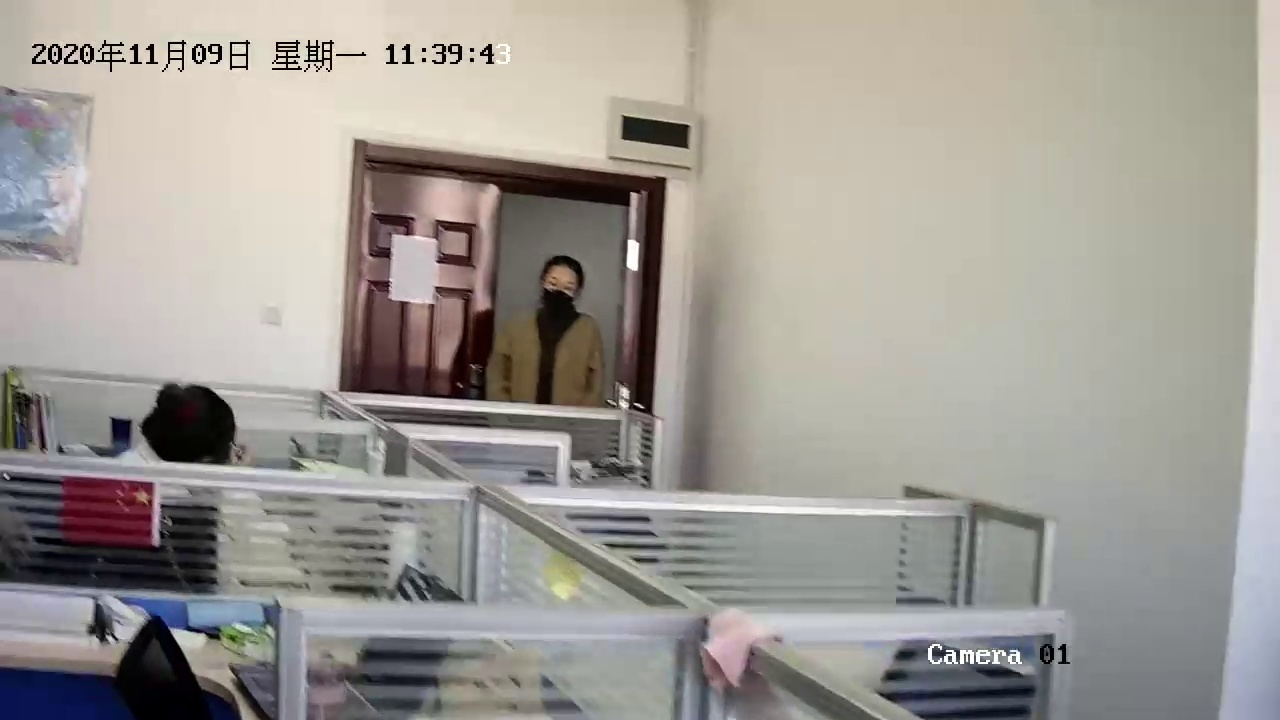mask: (536, 255, 585, 314)
